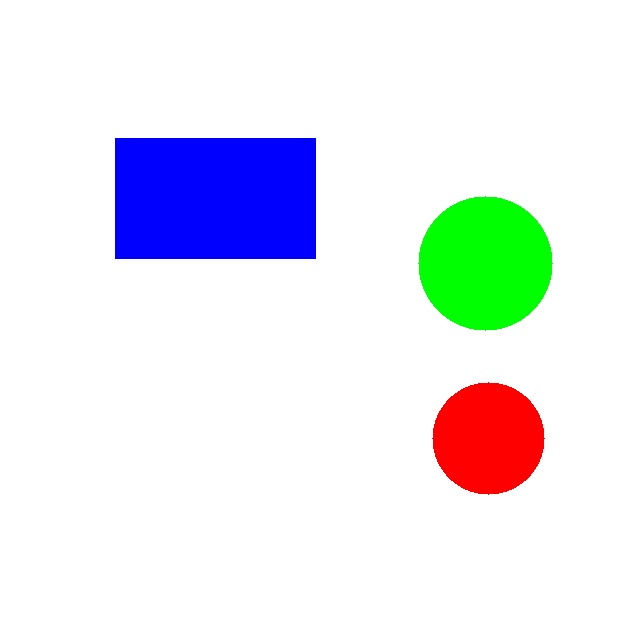cartao: (115, 138, 315, 258)
rosca_externa: (418, 196, 552, 330)
rosca_interna: (432, 382, 544, 494)
